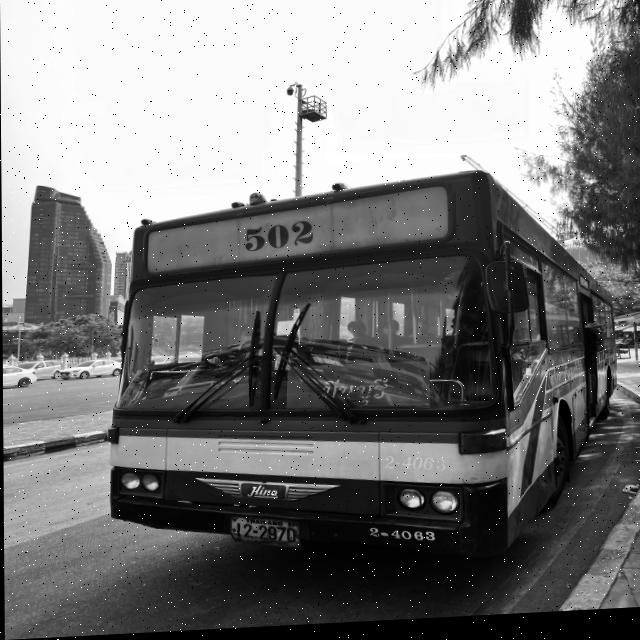BMTA-bus: (107, 174, 616, 566)
Bus Line Number: (232, 213, 328, 257)
Bus Side Number: (366, 522, 444, 550)
Destination Sign: (284, 365, 430, 419)
